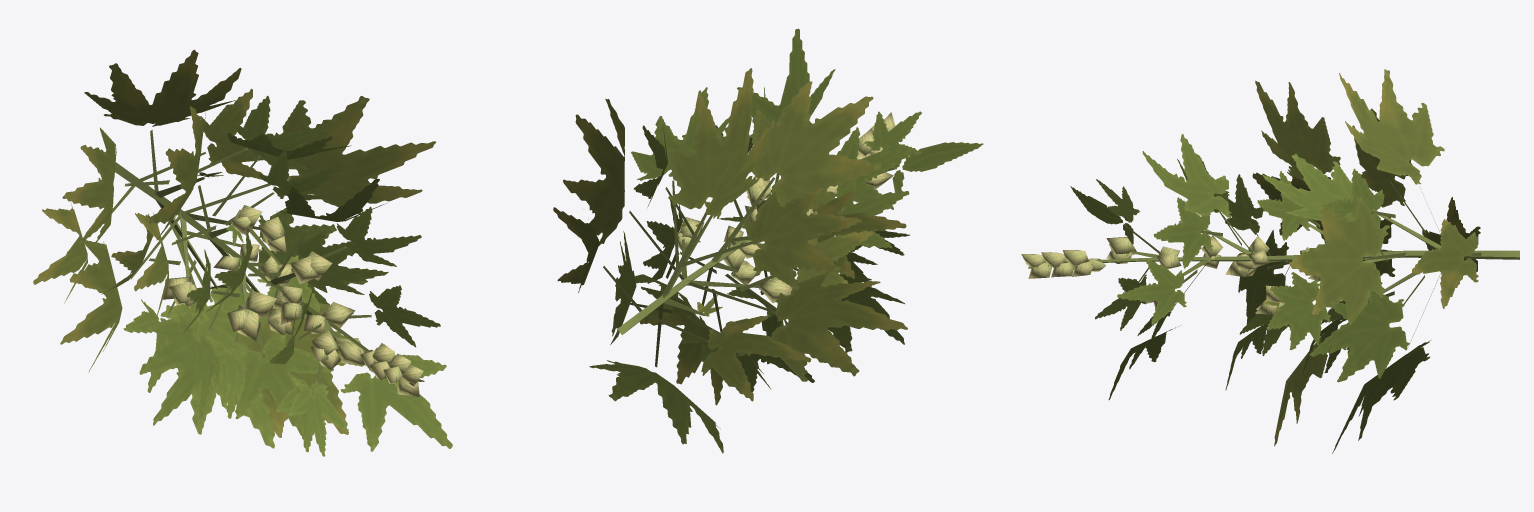
File: p_male_hybrid_ripe_c1_cards.obj
3 renders of one model, left to right at view 1: azimuth 30°, elevation 25°; view 2: azimuth 150°, elevation 25°; view 3: azimuth 270°, elevation 25°, orthographic. The views are drawn at different scales.
Size of the model in its own units: 1.47 by 1.59 by 1.74.
1 material, 1 textured.
